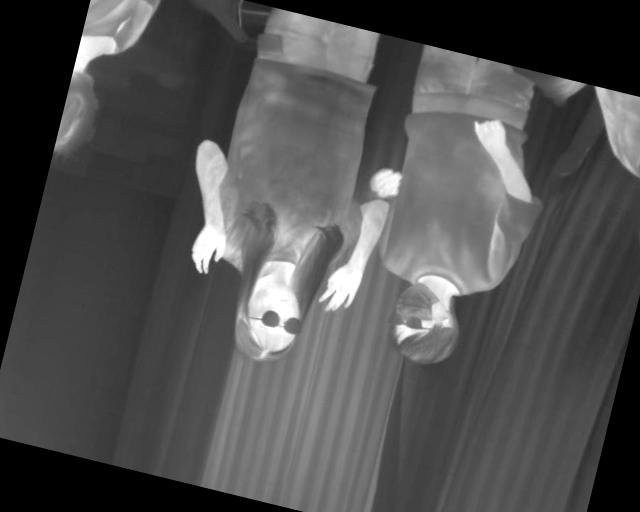face: (380, 277, 468, 370), (228, 272, 311, 369)
